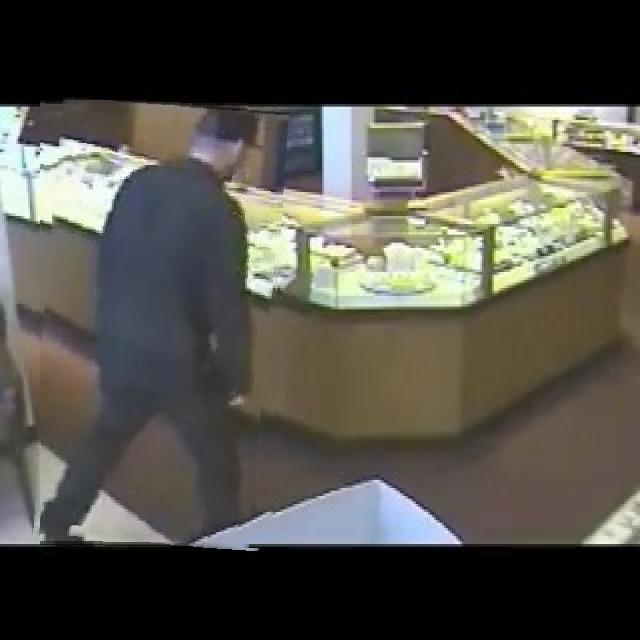Normal: (40, 100, 282, 548)
